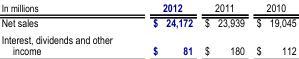table: (0, 1, 295, 56)
table column: (0, 1, 132, 56), (132, 1, 198, 56), (198, 1, 249, 56), (249, 1, 295, 56)
table column header: (0, 1, 295, 14)
table row: (0, 31, 295, 56), (0, 14, 295, 31), (0, 1, 295, 14)
